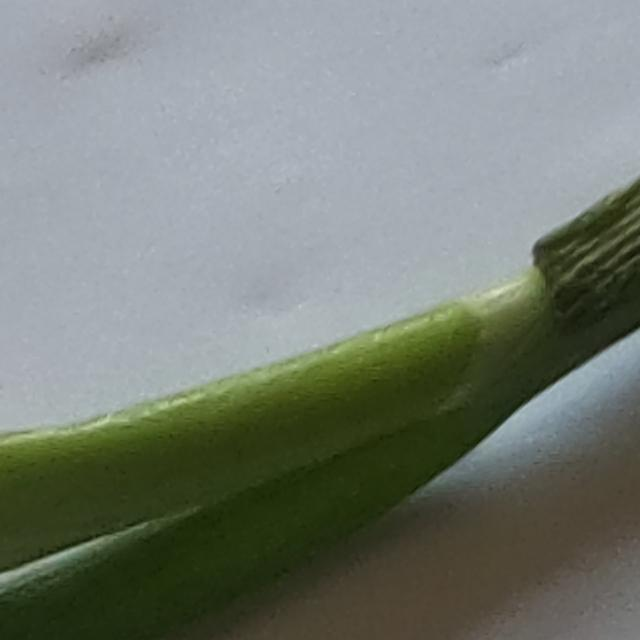green_onion: (0, 176, 640, 640)
